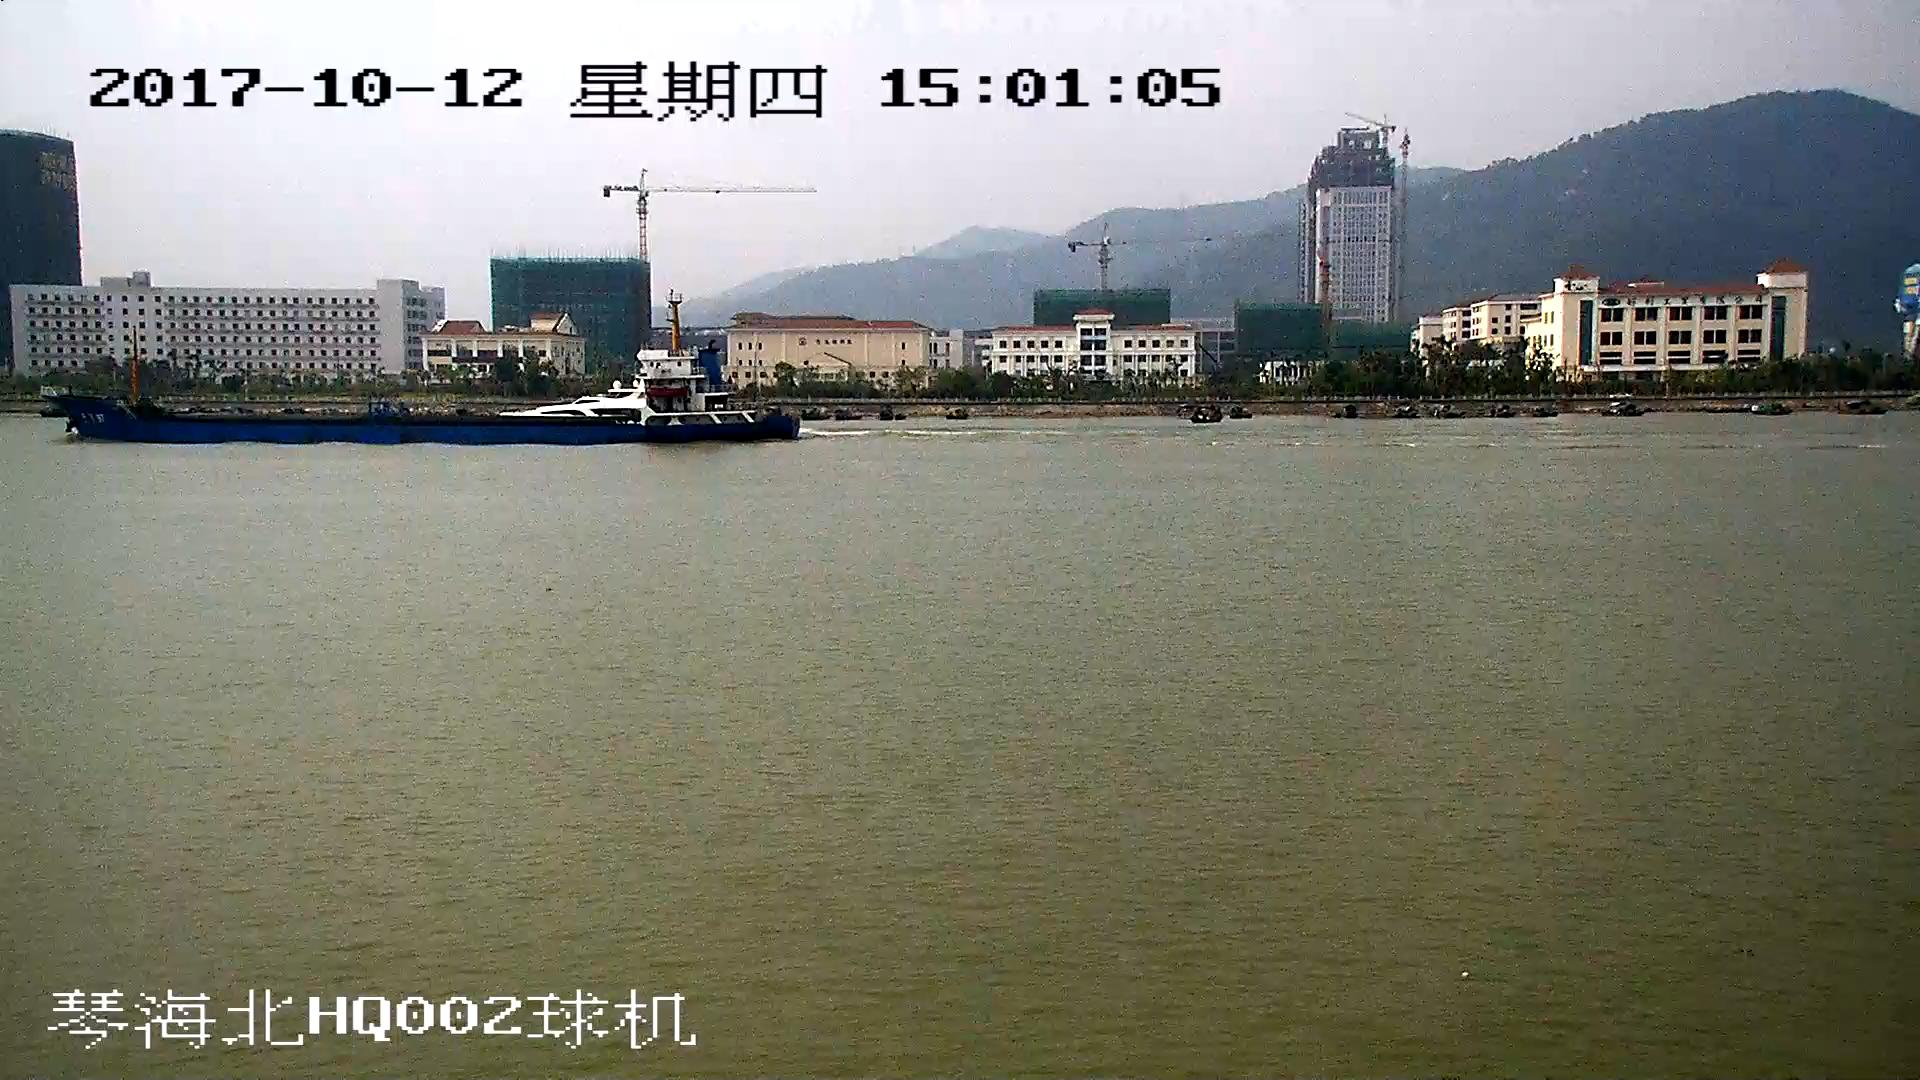general cargo ship: (45, 298, 800, 444)
